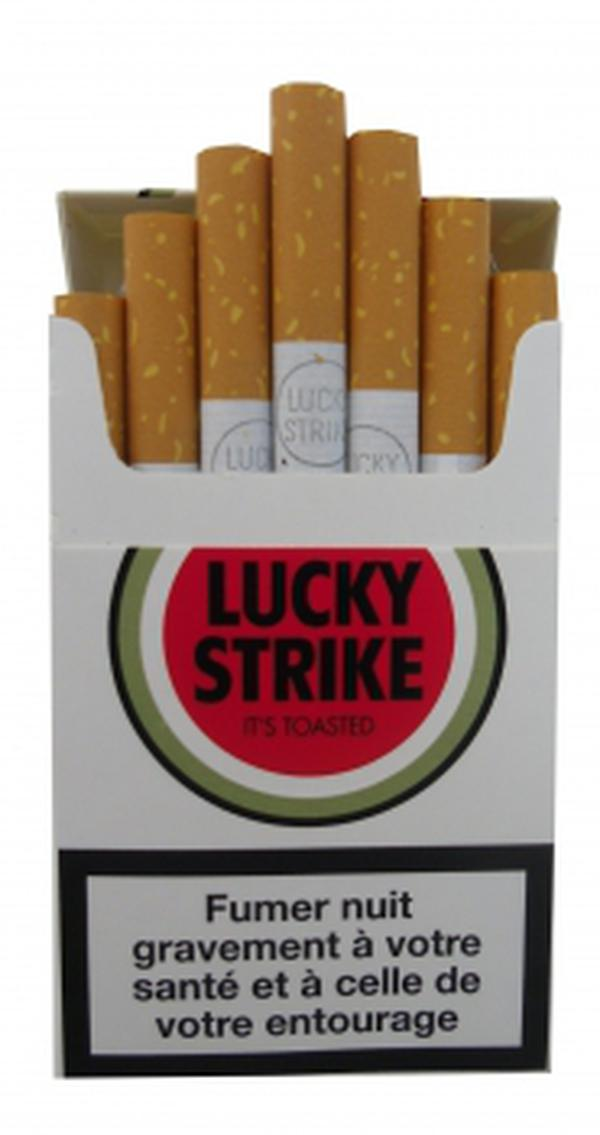lucky_strike_red: (46, 327, 556, 1075)
